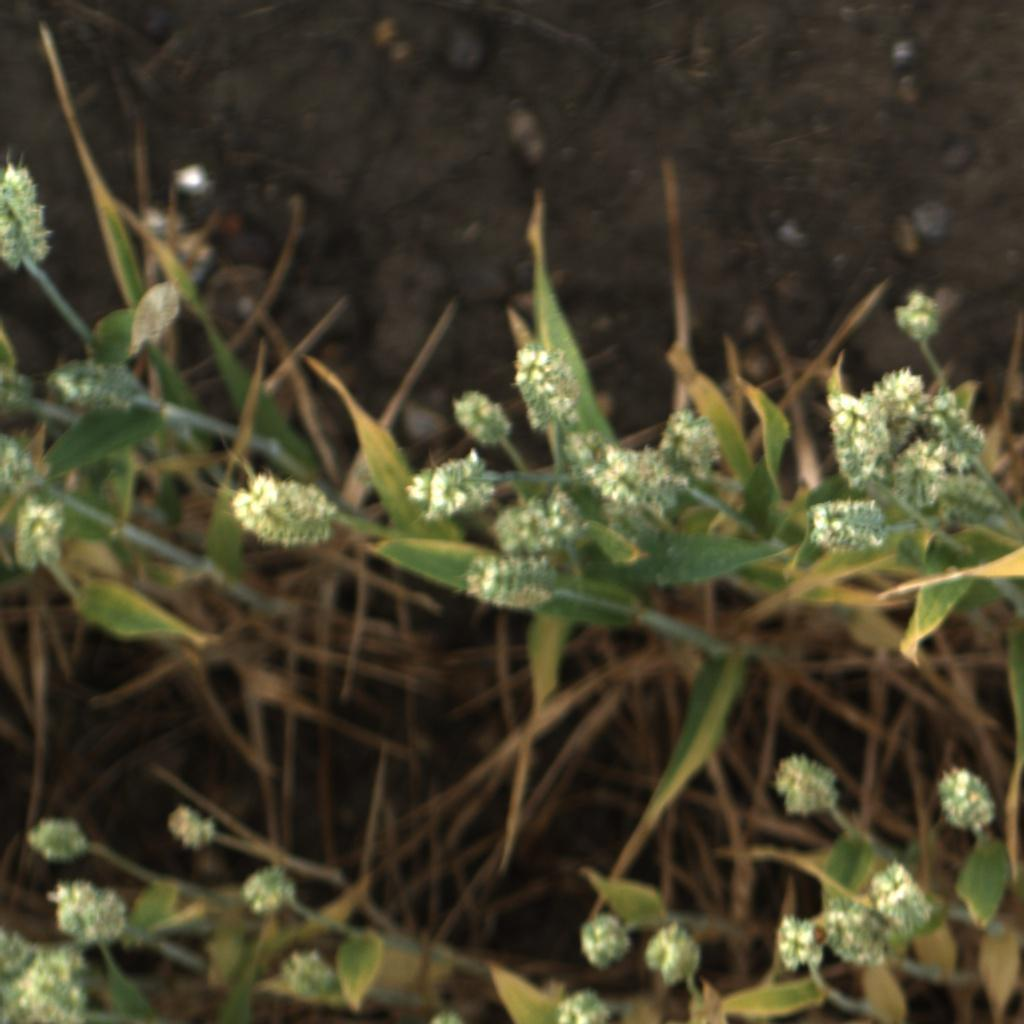0-0: (1, 928, 94, 1024), (225, 475, 337, 553), (589, 438, 688, 511), (403, 449, 498, 523), (455, 548, 559, 614), (511, 339, 584, 433), (820, 388, 891, 483), (488, 484, 585, 552), (927, 762, 1008, 840), (43, 877, 133, 947), (46, 354, 147, 416), (867, 854, 940, 938), (926, 379, 999, 460), (0, 160, 52, 273), (802, 491, 890, 557), (769, 751, 847, 824), (926, 463, 1006, 534), (819, 893, 890, 972), (640, 915, 708, 991), (888, 436, 946, 515), (873, 363, 927, 447), (10, 494, 67, 573), (659, 409, 724, 475), (274, 945, 343, 1004), (445, 388, 511, 449), (765, 908, 823, 975), (574, 906, 634, 970), (559, 424, 616, 490), (21, 814, 91, 864), (238, 860, 296, 919), (164, 800, 224, 852), (891, 289, 944, 346), (0, 431, 44, 496), (552, 986, 620, 1024), (0, 364, 38, 416)
